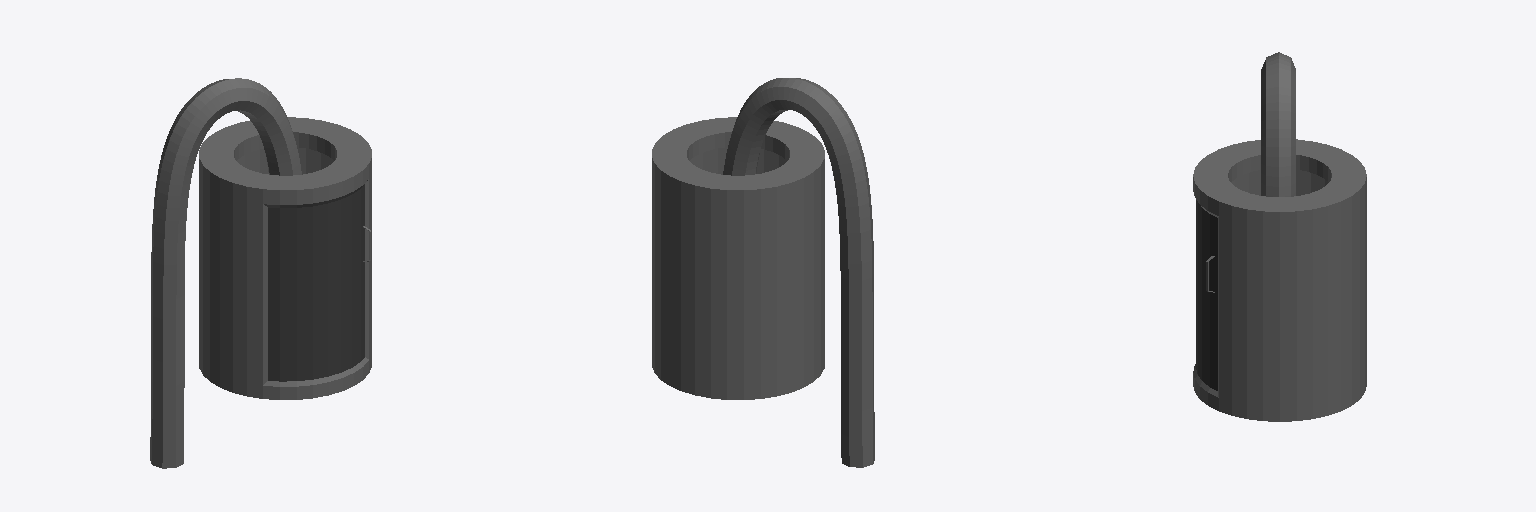
The model's file is Bin.obj.
The picture shows the model from 3 angles: view 1: azimuth 30°, elevation 25°; view 2: azimuth 150°, elevation 25°; view 3: azimuth 270°, elevation 25°; orthographic projection.
Parts seen in each view (by area): view 1: NurbsPath_Mesh; view 2: NurbsPath_Mesh; view 3: NurbsPath_Mesh.
Boxes of the visible parts, x1=… form: NurbsPath_Mesh: x1=150, y1=78, x2=371, y2=468; NurbsPath_Mesh: x1=652, y1=78, x2=874, y2=467; NurbsPath_Mesh: x1=1193, y1=52, x2=1366, y2=421.
Bounding box in the file's own units: 2.09 × 3.5 × 1.5.